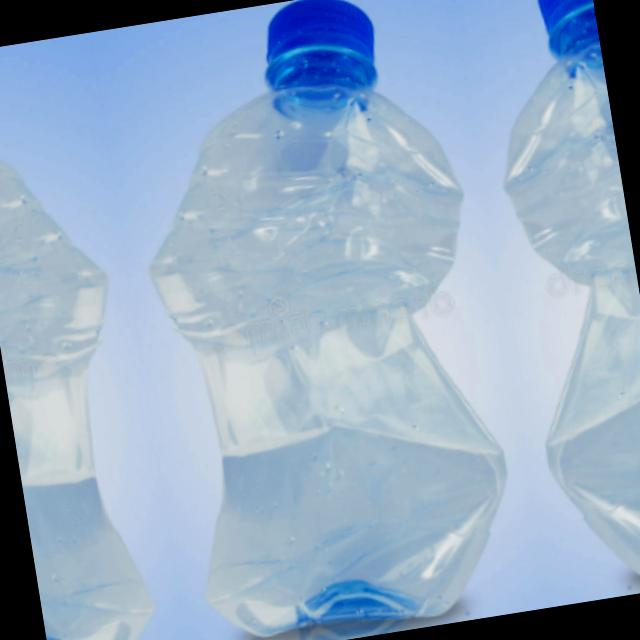Plastic: (94, 0, 537, 640), (0, 33, 188, 640), (464, 0, 640, 605)
